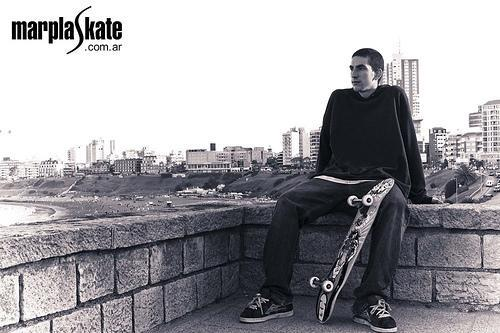car: (485, 180, 493, 187), (493, 185, 500, 192), (495, 172, 500, 176)
